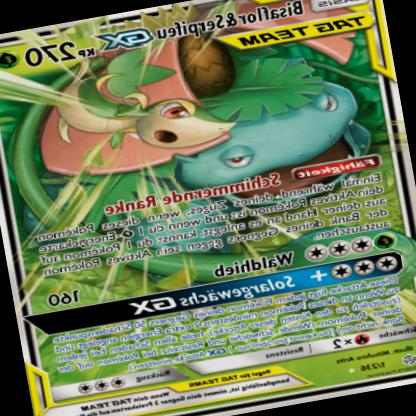Venusaur: (1, 34, 388, 253)
